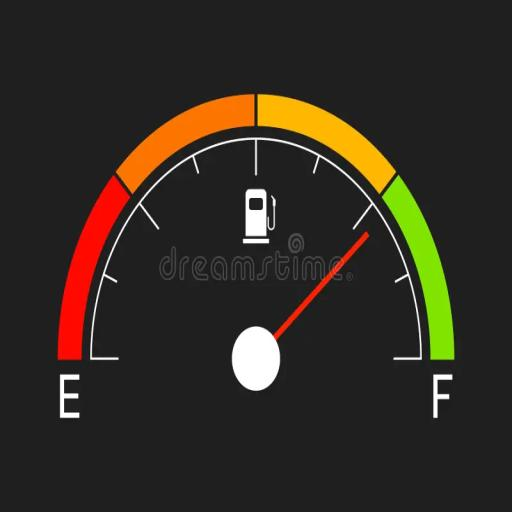empty: (56, 369, 83, 424)
fuel_icon: (240, 184, 278, 250)
full: (430, 370, 454, 422)
guage_area: (50, 87, 476, 449)
needle_center: (227, 313, 289, 401)
needle_tip: (352, 228, 376, 249)
